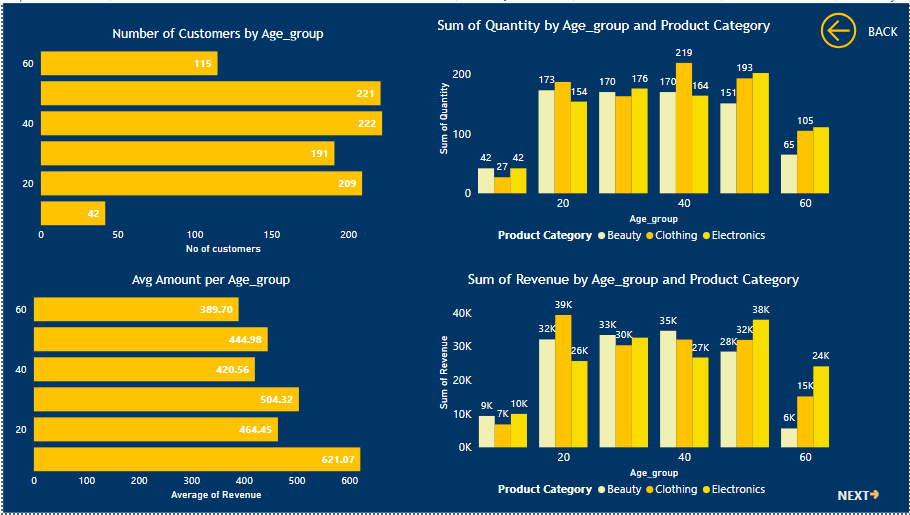

This screenshot's page, from the dashboard's own definition file:
{"tool":"powerbi","page":{"name":"Age_nd_gender","canvas":[1280,720],"ordinal":1},"visuals":[{"type":"shape","box":[0,0,1280,719.7],"z":0},{"type":"hundredPercentStackedBarChart","fields":{"Category":["retail.Product Category"],"Y":["Sum(retail.Total Amount)"],"Series":["retail.Gender"]},"box":[10.1,15.1,563.7,365.7],"z":1000},{"type":"hundredPercentStackedBarChart","fields":{"Category":["retail.Product Category"],"Series":["retail.Gender"],"Y":["Sum(retail.Quantity)"]},"box":[577.1,15.1,563.7,365.7],"z":2000},{"type":"clusteredBarChart","fields":{"Category":["retail.Age_group"],"Y":["CountNonNull(retail.Transaction ID)"]},"box":[10,391,564,329],"z":3000},{"type":"clusteredColumnChart","fields":{"Category":["retail.Age_group"],"Series":["retail.Product Category"],"Y":["CountNonNull(retail.Customer ID)"]},"box":[607.3,390.9,563.7,328.8],"z":4000},{"type":"actionButton","box":[1139.1,662.6,140.9,57],"z":5000},{"type":"actionButton","box":[1147.5,6.7,119.1,63.7],"z":6000}]}

Visuals, with their boxes in screenshot pixels (x1, y1, x2, y2), scaled from the page's 1280x720 canvas onto the 910x515 screenshot:
shape: <bbox>0, 0, 909, 514</bbox>
hundredPercentStackedBarChart - retail.Product Category x Sum(retail.Total Amount): <bbox>7, 11, 408, 272</bbox>
hundredPercentStackedBarChart - retail.Product Category x retail.Gender: <bbox>410, 11, 811, 272</bbox>
clusteredBarChart - retail.Age_group x CountNonNull(retail.Transaction ID): <bbox>7, 280, 408, 514</bbox>
clusteredColumnChart - retail.Age_group x retail.Product Category: <bbox>432, 280, 833, 514</bbox>
actionButton: <bbox>810, 474, 909, 514</bbox>
actionButton: <bbox>816, 5, 900, 50</bbox>
